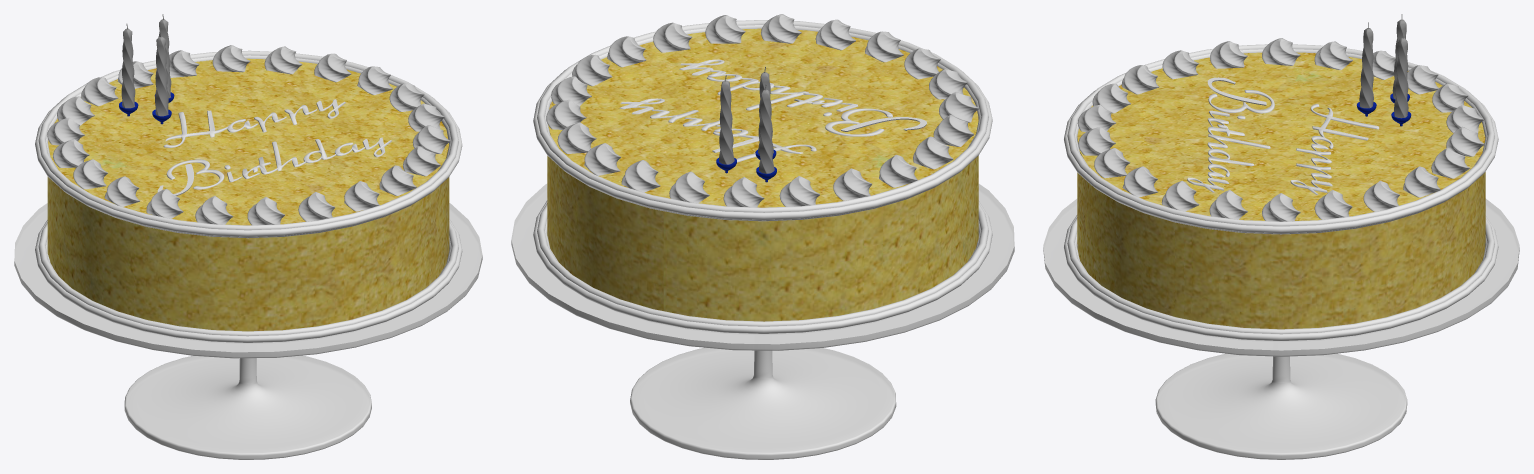
The model's file is cake1.FBX.
3 renders of one model, left to right at view 1: azimuth 30°, elevation 25°; view 2: azimuth 150°, elevation 25°; view 3: azimuth 270°, elevation 25°, orthographic. The views are drawn at different scales.
Parts seen in each view (by area): view 1: Model_166_Fancycake_ (×29); view 2: Model_166_Fancycake_ (×29); view 3: Model_166_Fancycake_ (×29).
Part boxes in pixels (x1,y1,x2,y2): Model_166_Fancycake_ (×29): (14, 23, 482, 459); Model_166_Fancycake_ (×29): (511, 14, 1014, 459); Model_166_Fancycake_ (×29): (1043, 22, 1519, 459).
Size of the model in its own units: 267 by 225 by 268.
